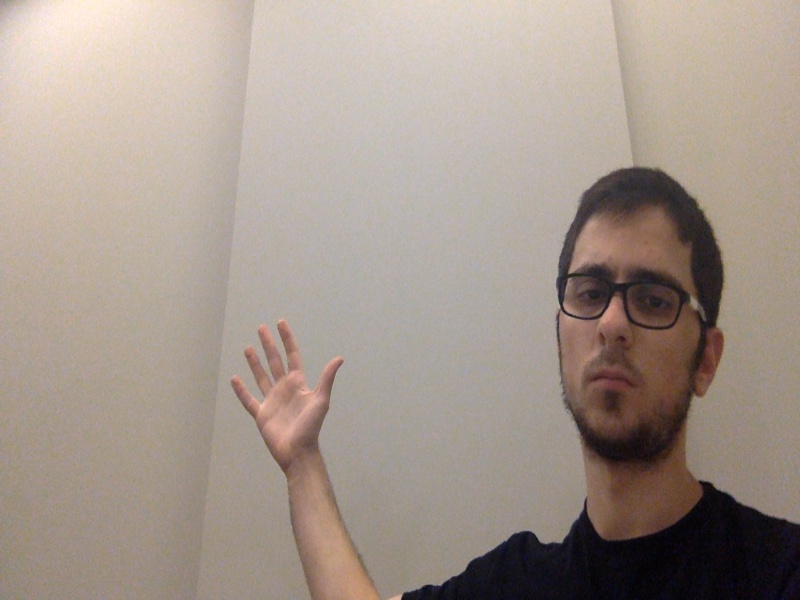5-hand: (229, 320, 347, 473)
